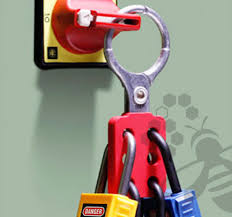hasp: (105, 4, 172, 203)
lock: (137, 127, 201, 217), (79, 130, 138, 217)
